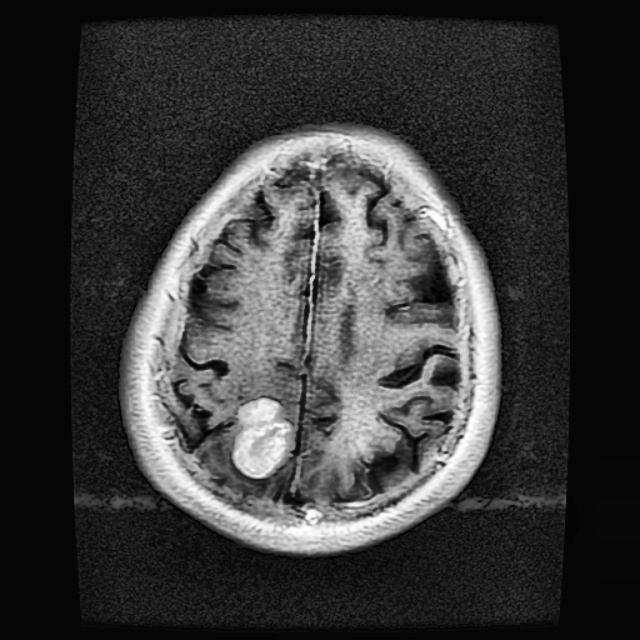Pituitary: (233, 397, 293, 477)
